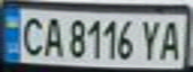1: (100, 17, 121, 60), (84, 16, 103, 60)
6: (115, 17, 139, 61)
8: (66, 16, 87, 58)
A: (157, 17, 184, 62), (39, 15, 66, 58)
C: (15, 12, 48, 57)
Y: (136, 16, 163, 61)
